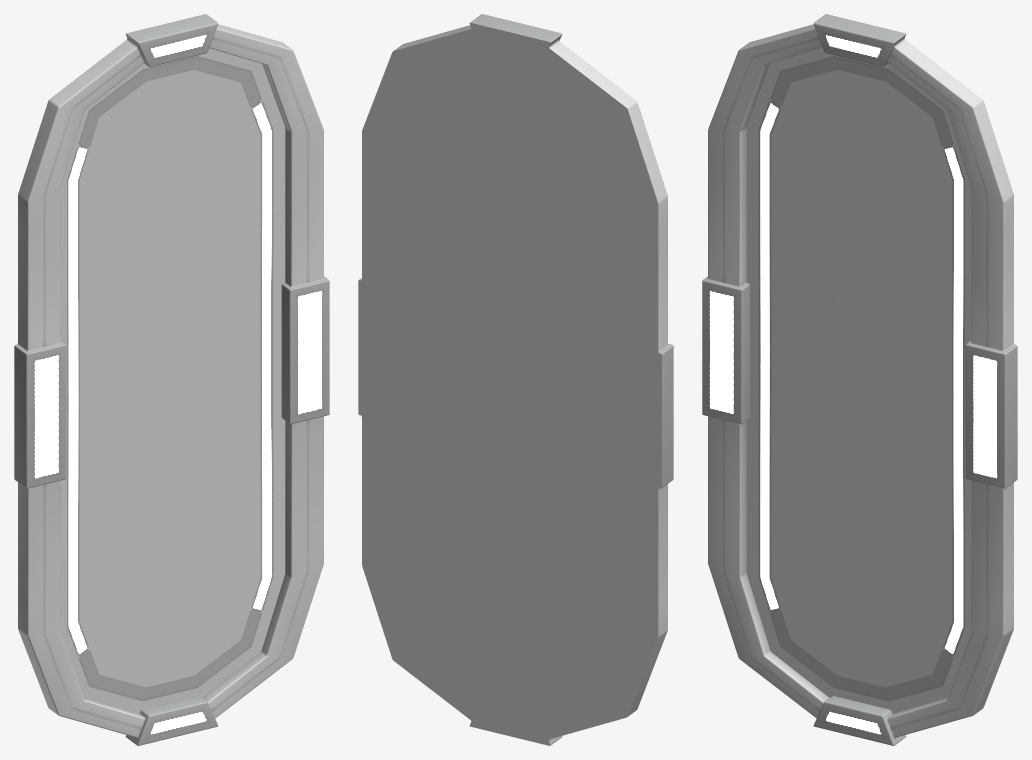
Rendered from Mirror01.FBX.
3 renders of one model, left to right at view 1: azimuth 30°, elevation 25°; view 2: azimuth 150°, elevation 25°; view 3: azimuth 330°, elevation 25°, orthographic.
Parts seen in each view (by area): view 1: Mirror01; view 2: Mirror01; view 3: Mirror01.
Boxes of the visible parts, x1,y1,x2,y2 form: Mirror01: (14,14,329,745); Mirror01: (358,14,673,745); Mirror01: (702,14,1017,745).
Size of what is drawn, in the model's own units: 0.7467 by 1.65 by 0.0532.
